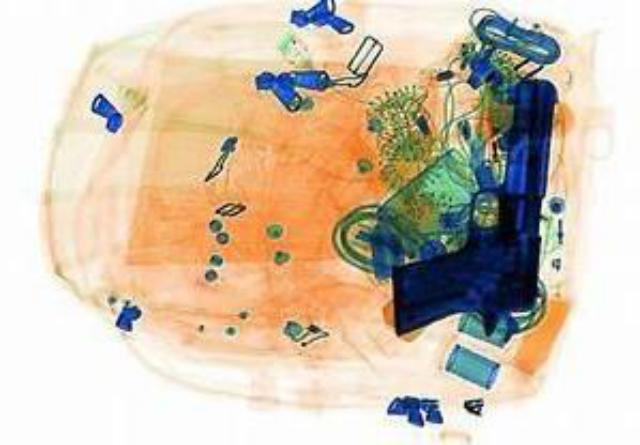Gun: (388, 72, 556, 337)
